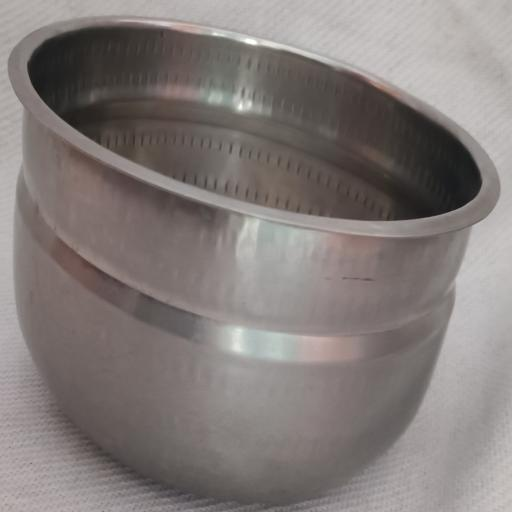vessel: (8, 17, 499, 504)
